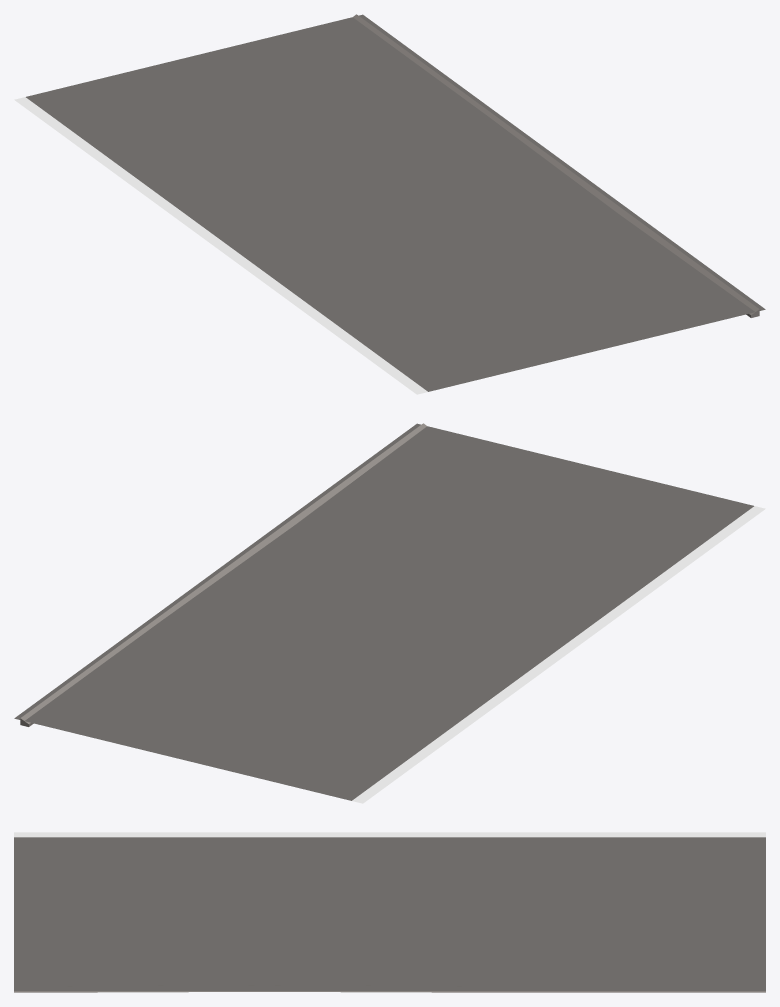
File: road000.fbx
3 renders of one model, top to bottom at view 1: azimuth 30°, elevation 25°; view 2: azimuth 150°, elevation 25°; view 3: azimuth 270°, elevation 25°, orthographic. The views are drawn at different scales.
Parts seen in each view (by area): view 1: Road_03; view 2: Road_03; view 3: Road_03.
Part boxes in pixels (x1,y1,x2,y2): Road_03: (14, 14, 765, 394); Road_03: (14, 423, 765, 803); Road_03: (14, 832, 765, 992).
Size of the model in its own units: 300 by 6.19 by 600.
Materials: 1 (1 with a texture image).
